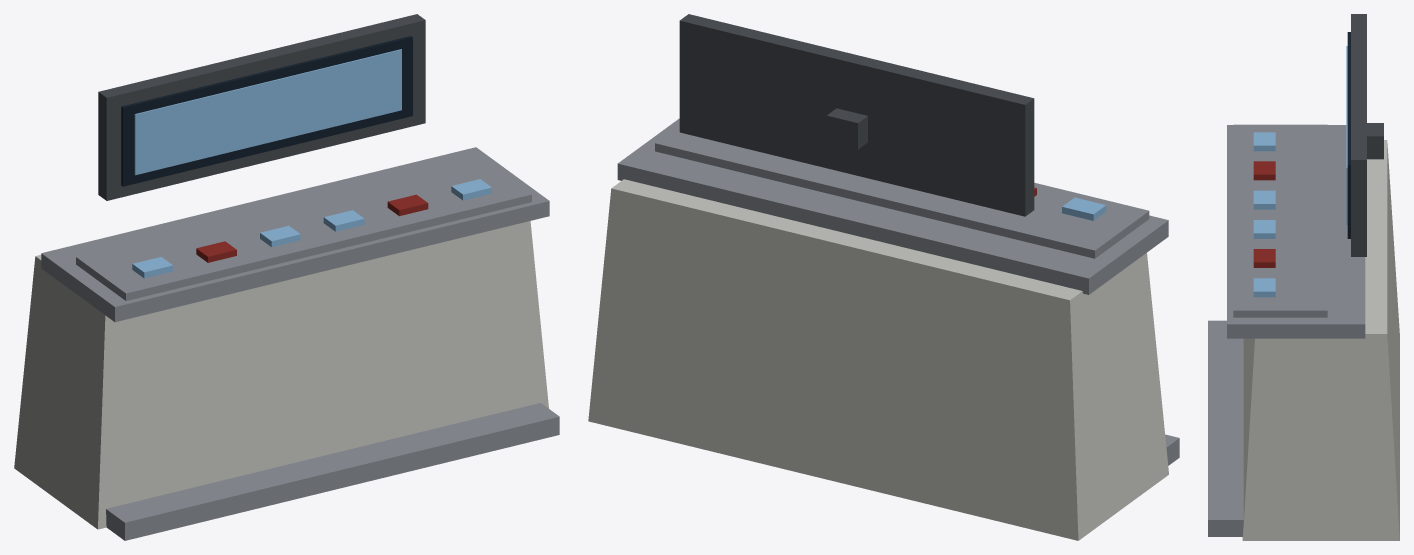
File: republic_console.glb
The picture shows the model from 3 angles, left to right: view 1: azimuth 30°, elevation 25°; view 2: azimuth 150°, elevation 25°; view 3: azimuth 270°, elevation 25°; orthographic projection. The views are drawn at different scales.
Visible parts, largest first — view 1: republic_console; view 2: republic_console; view 3: republic_console.
Part boxes in pixels (<box>): republic_console: <box>14,14,559,540</box>; republic_console: <box>588,14,1179,540</box>; republic_console: <box>1208,14,1399,540</box>.
Bounding box in the file's own units: 1.56 × 1.23 × 0.61.
